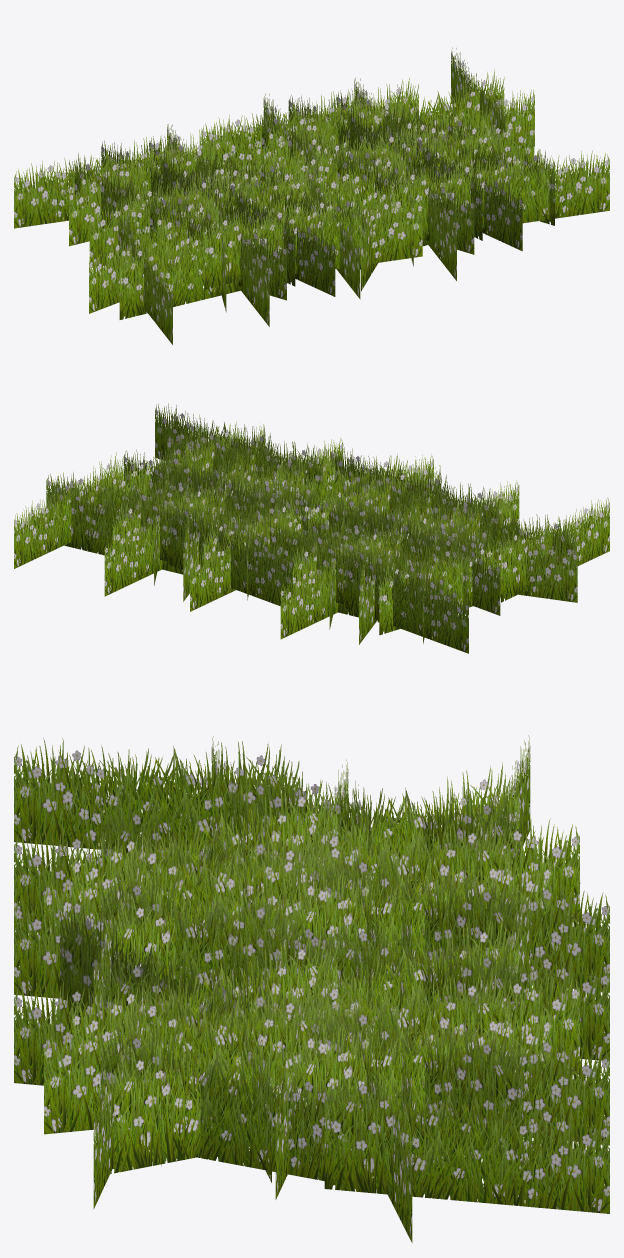
Rendered from grassnflowers.fbx.
The picture shows the model from 3 angles, top to bottom: view 1: azimuth 30°, elevation 25°; view 2: azimuth 150°, elevation 25°; view 3: azimuth 270°, elevation 25°; orthographic projection. The views are drawn at different scales.
Visible parts, largest first — view 1: Transparent_Grass_and_Flowers_Clipart.046, Transparent_Grass_and_Flowers_Clipart.049, Transparent_Grass_and_Flowers_Clipart.017, Transparent_Grass_and_Flowers_Clipart.056, Transparent_Grass_and_Flowers_Clipart.059, Transparent_Grass_and_Flowers_Clipart.020, Transparent_Grass_and_Flowers_Clipart.022, Transparent_Grass_and_Flowers_Clipart.011, Transparent_Grass_and_Flowers_Clipart.021, Transparent_Grass_and_Flowers_Clipart.014, Transparent_Grass_and_Flowers_Clipart.031, Transparent_Grass_and_Flowers_Clipart.048 (+42 smaller); view 2: Transparent_Grass_and_Flowers_Clipart.017, Transparent_Grass_and_Flowers_Clipart.014, Transparent_Grass_and_Flowers_Clipart.058, Transparent_Grass_and_Flowers_Clipart.005, Transparent_Grass_and_Flowers_Clipart.059, Transparent_Grass_and_Flowers_Clipart.002, Transparent_Grass_and_Flowers_Clipart.029, Transparent_Grass_and_Flowers_Clipart.026, Transparent_Grass_and_Flowers_Clipart.007, Transparent_Grass_and_Flowers_Clipart.030, Transparent_Grass_and_Flowers_Clipart.053, Transparent_Grass_and_Flowers_Clipart.042 (+45 smaller); view 3: Transparent_Grass_and_Flowers_Clipart.005, Transparent_Grass_and_Flowers_Clipart.058, Transparent_Grass_and_Flowers_Clipart.033, Transparent_Grass_and_Flowers_Clipart.044, Transparent_Grass_and_Flowers_Clipart.047, Transparent_Grass_and_Flowers_Clipart.037, Transparent_Grass_and_Flowers_Clipart.002, Transparent_Grass_and_Flowers_Clipart.043, Transparent_Grass_and_Flowers_Clipart.029, Transparent_Grass_and_Flowers_Clipart.052, Transparent_Grass_and_Flowers_Clipart.055, Transparent_Grass_and_Flowers_Clipart.006 (+36 smaller).
Part boxes in pixels (box(x1,y1,x2,y2)): Transparent_Grass_and_Flowers_Clipart.046: box(444, 150, 609, 228); Transparent_Grass_and_Flowers_Clipart.049: box(257, 196, 422, 273); Transparent_Grass_and_Flowers_Clipart.017: box(14, 135, 179, 228); Transparent_Grass_and_Flowers_Clipart.056: box(119, 226, 253, 319); Transparent_Grass_and_Flowers_Clipart.059: box(89, 197, 218, 313); Transparent_Grass_and_Flowers_Clipart.020: box(144, 187, 286, 300); Transparent_Grass_and_Flowers_Clipart.022: box(89, 174, 254, 267); Transparent_Grass_and_Flowers_Clipart.011: box(332, 141, 474, 254); Transparent_Grass_and_Flowers_Clipart.021: box(205, 194, 354, 289); Transparent_Grass_and_Flowers_Clipart.014: box(201, 88, 366, 171); Transparent_Grass_and_Flowers_Clipart.031: box(69, 140, 220, 246); Transparent_Grass_and_Flowers_Clipart.048: box(217, 175, 335, 296); Transparent_Grass_and_Flowers_Clipart.017: box(345, 544, 468, 653); Transparent_Grass_and_Flowers_Clipart.014: box(169, 500, 292, 606); Transparent_Grass_and_Flowers_Clipart.058: box(501, 497, 609, 602); Transparent_Grass_and_Flowers_Clipart.005: box(14, 452, 122, 568); Transparent_Grass_and_Flowers_Clipart.059: box(421, 516, 577, 602); Transparent_Grass_and_Flowers_Clipart.002: box(104, 481, 213, 596); Transparent_Grass_and_Flowers_Clipart.029: box(280, 522, 389, 639); Transparent_Grass_and_Flowers_Clipart.026: box(190, 497, 298, 611); Transparent_Grass_and_Flowers_Clipart.007: box(48, 476, 183, 574); Transparent_Grass_and_Flowers_Clipart.030: box(379, 540, 510, 635); Transparent_Grass_and_Flowers_Clipart.053: box(300, 529, 443, 620); Transparent_Grass_and_Flowers_Clipart.042: box(124, 486, 267, 575); Transparent_Grass_and_Flowers_Clipart.005: box(324, 1069, 609, 1213); Transparent_Grass_and_Flowers_Clipart.058: box(14, 738, 299, 852); Transparent_Grass_and_Flowers_Clipart.033: box(100, 1022, 367, 1181); Transparent_Grass_and_Flowers_Clipart.044: box(104, 1023, 369, 1173); Transparent_Grass_and_Flowers_Clipart.047: box(44, 987, 328, 1134); Transparent_Grass_and_Flowers_Clipart.037: box(14, 890, 299, 998); Transparent_Grass_and_Flowers_Clipart.002: box(324, 1000, 609, 1144); Transparent_Grass_and_Flowers_Clipart.043: box(286, 1005, 551, 1129); Transparent_Grass_and_Flowers_Clipart.029: box(324, 847, 609, 991); Transparent_Grass_and_Flowers_Clipart.052: box(286, 853, 551, 970); Transparent_Grass_and_Flowers_Clipart.055: box(226, 818, 510, 929); Transparent_Grass_and_Flowers_Clipart.006: box(259, 1008, 523, 1153).
Size of the model in its own units: 595 by 113 by 364.
Materials: 1 (1 with a texture image).
